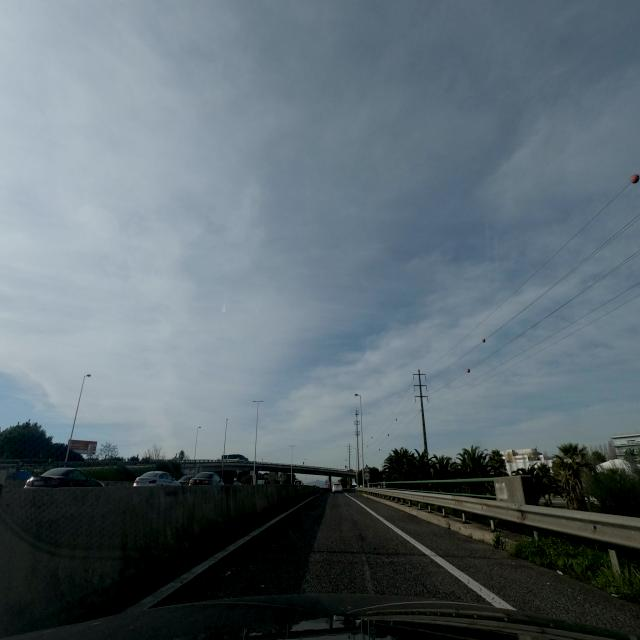car: (25, 467, 106, 488), (132, 471, 180, 486), (3, 469, 36, 486), (190, 471, 224, 487), (179, 472, 196, 486), (332, 481, 342, 493)
